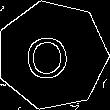O_N: (30, 30, 75, 81)
